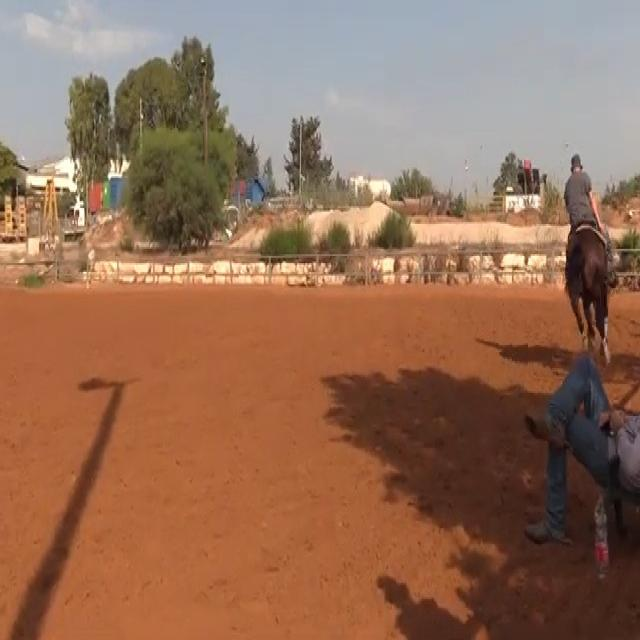horse: (562, 220, 613, 366)
